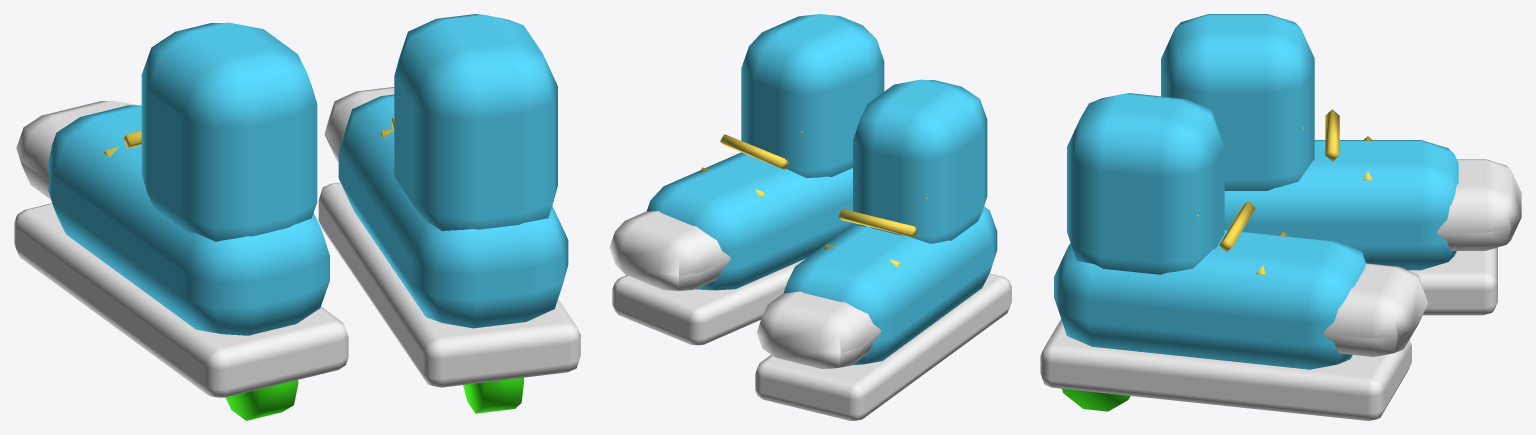
Rendered from x_moon_heelys.glb.
3 renders of one model, left to right at view 1: azimuth 30°, elevation 25°; view 2: azimuth 150°, elevation 25°; view 3: azimuth 270°, elevation 25°, orthographic. The views are drawn at different scales.
Visible parts, largest first — view 1: boot_l.001, boot_r; view 2: boot_l.001, boot_r; view 3: boot_r, boot_l.001.
Part boxes in pixels (bbox=[...]): boot_l.001: bbox=[14, 22, 348, 420]; boot_r: bbox=[318, 14, 580, 413]; boot_l.001: bbox=[755, 79, 1011, 420]; boot_r: bbox=[609, 14, 884, 345]; boot_r: bbox=[1040, 93, 1427, 420]; boot_l.001: bbox=[1161, 14, 1521, 315].
Bounding box in the file's own units: 0.3316 × 0.2833 × 0.4072.
